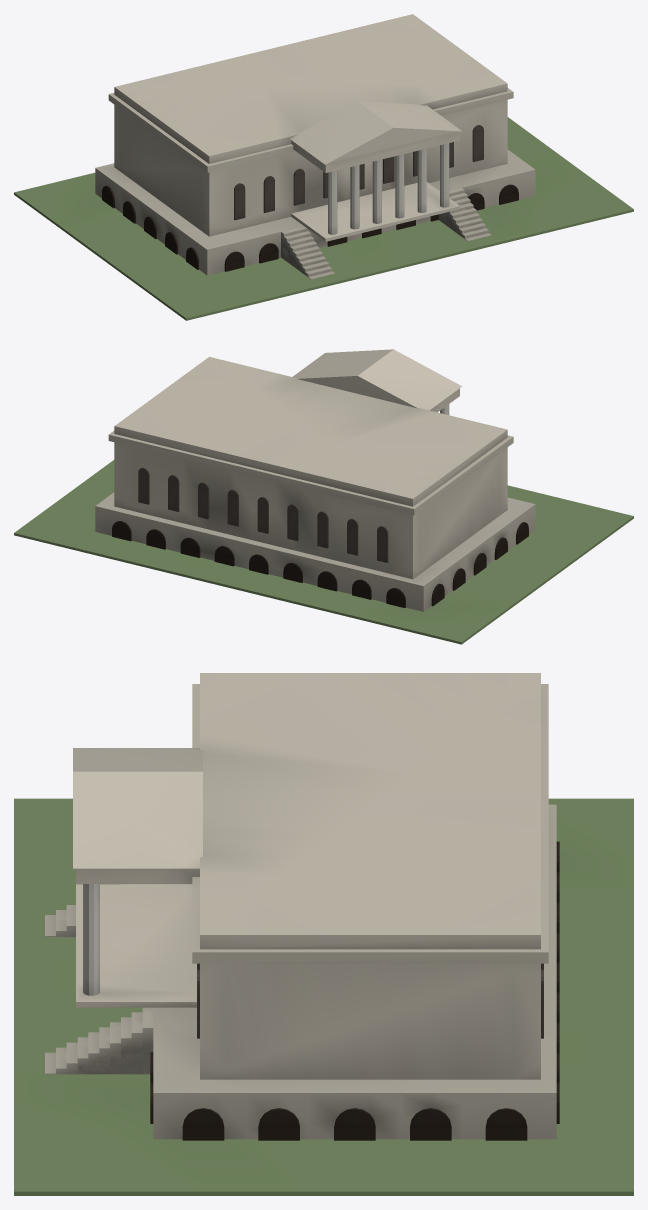
The model's file is begum-samru-palace.glb.
3 renders of one model, top to bottom at view 1: azimuth 30°, elevation 25°; view 2: azimuth 150°, elevation 25°; view 3: azimuth 270°, elevation 25°, orthographic. The views are drawn at different scales.
Parts seen in each view (by area): view 1: p1_house, p0_basement, p2_portico; view 2: p1_house, p0_basement, p2_portico; view 3: p1_house, p0_basement, p2_portico.
Part boxes in pixels (x1,y1,x2,y2): p1_house: [108, 14, 513, 236]; p0_basement: [14, 117, 633, 320]; p2_portico: [281, 101, 491, 279]; p1_house: [108, 356, 513, 579]; p0_basement: [14, 460, 633, 644]; p2_portico: [292, 349, 461, 414]; p1_house: [192, 673, 548, 1079]; p0_basement: [14, 798, 633, 1195]; p2_portico: [45, 748, 202, 1074].
Bounding box in the file's own units: 60 × 16.2 × 40.
